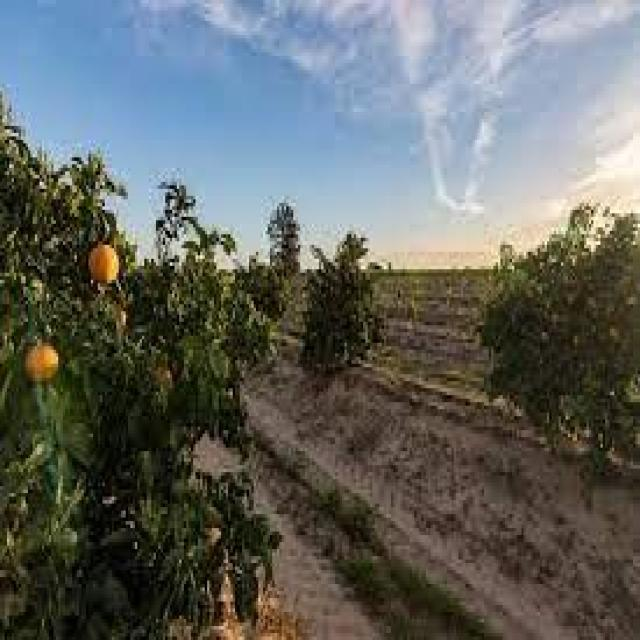fruit: (23, 337, 60, 383), (87, 240, 120, 286), (154, 360, 174, 394), (116, 306, 126, 330)
